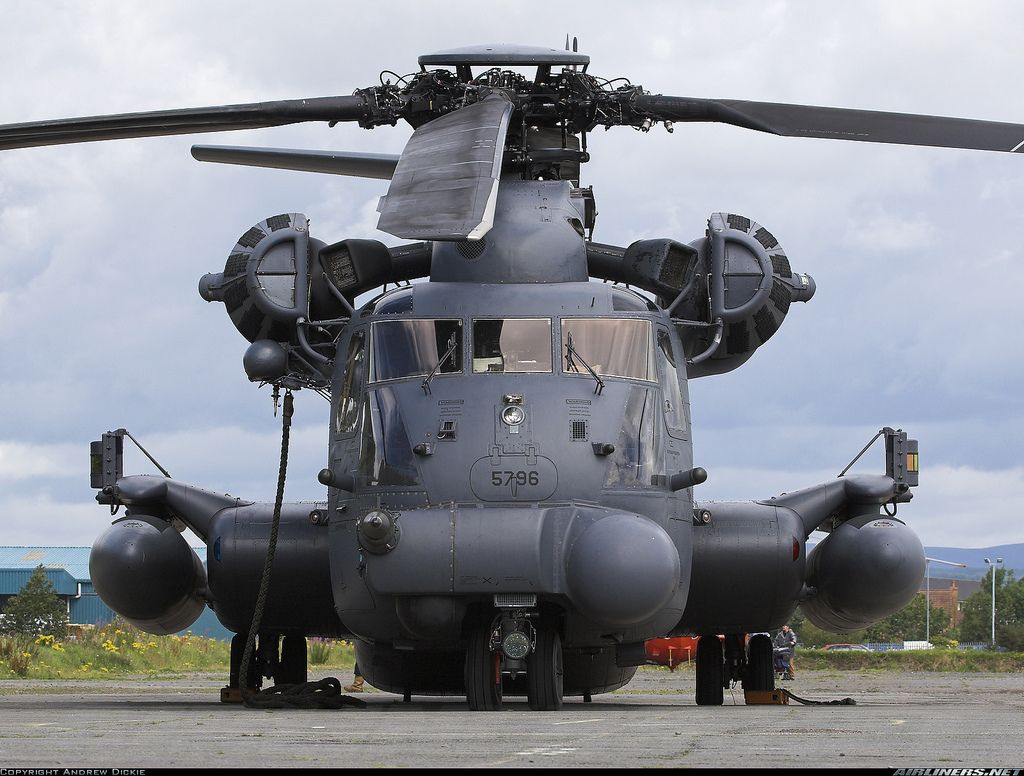MilitaryHelicopter: (83, 44, 934, 716)
